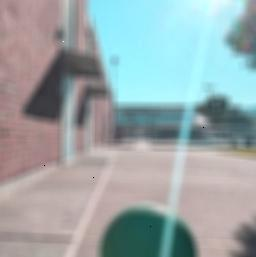algae: (97, 201, 199, 257)
